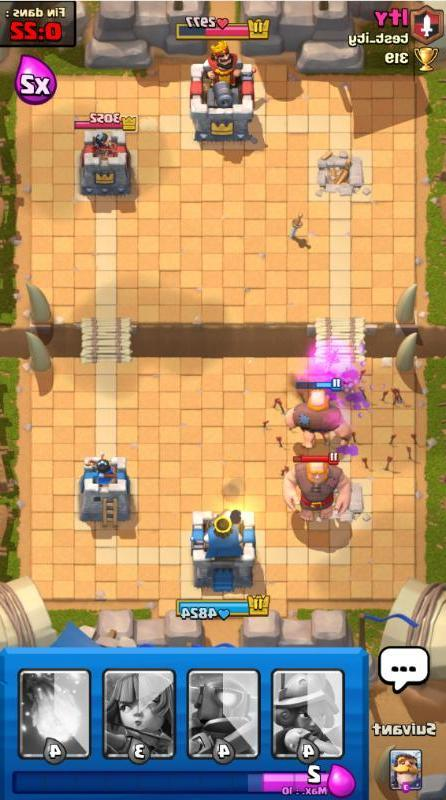enemy_giant: (279, 452, 353, 523)
player_giant: (280, 369, 358, 444)
